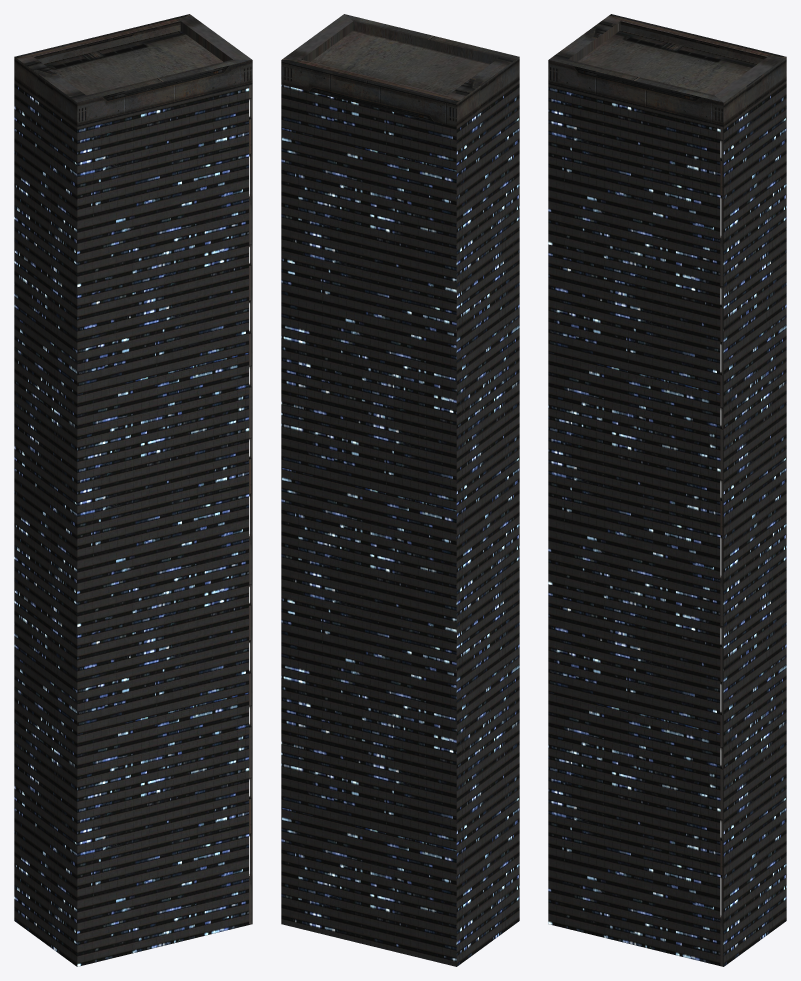
The model's file is synth-remixed-cyberpunk-skyscraper.glb.
3 views of the same model, side by side, from view 1: azimuth 30°, elevation 25°; view 2: azimuth 150°, elevation 25°; view 3: azimuth 330°, elevation 25° (orthographic).
Parts seen in each view (by area): view 1: Cube.003; view 2: Cube.003; view 3: Cube.003.
Part boxes in pixels (x1=…): Cube.003: x1=14, y1=14, x2=252, y2=966; Cube.003: x1=281, y1=14, x2=519, y2=966; Cube.003: x1=548, y1=14, x2=786, y2=966.
Bounding box in the file's own units: 17.45 × 82.21 × 10.82.
Materials: 1 (1 with a texture image).
